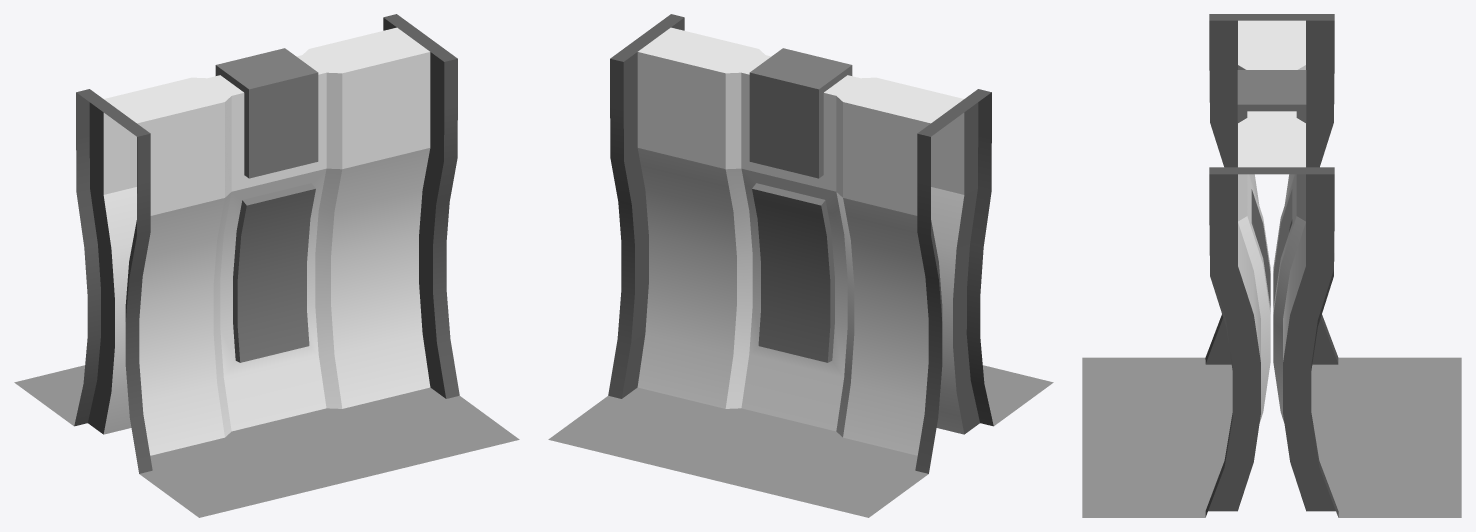
Rendered from SM_InteriorWall_01.fbx.
The picture shows the model from 3 angles, left to right: view 1: azimuth 30°, elevation 25°; view 2: azimuth 150°, elevation 25°; view 3: azimuth 270°, elevation 25°; orthographic projection. The views are drawn at different scales.
Parts seen in each view (by area): view 1: SM_InteriorWall_01; view 2: SM_InteriorWall_01; view 3: SM_InteriorWall_01.
Boxes of the visible parts, bbox=[...] form: SM_InteriorWall_01: bbox=[14, 14, 519, 517]; SM_InteriorWall_01: bbox=[548, 14, 1053, 517]; SM_InteriorWall_01: bbox=[1082, 14, 1461, 517].
Bounding box in the file's own units: 200 × 204 × 200.
1 material, 1 textured.
